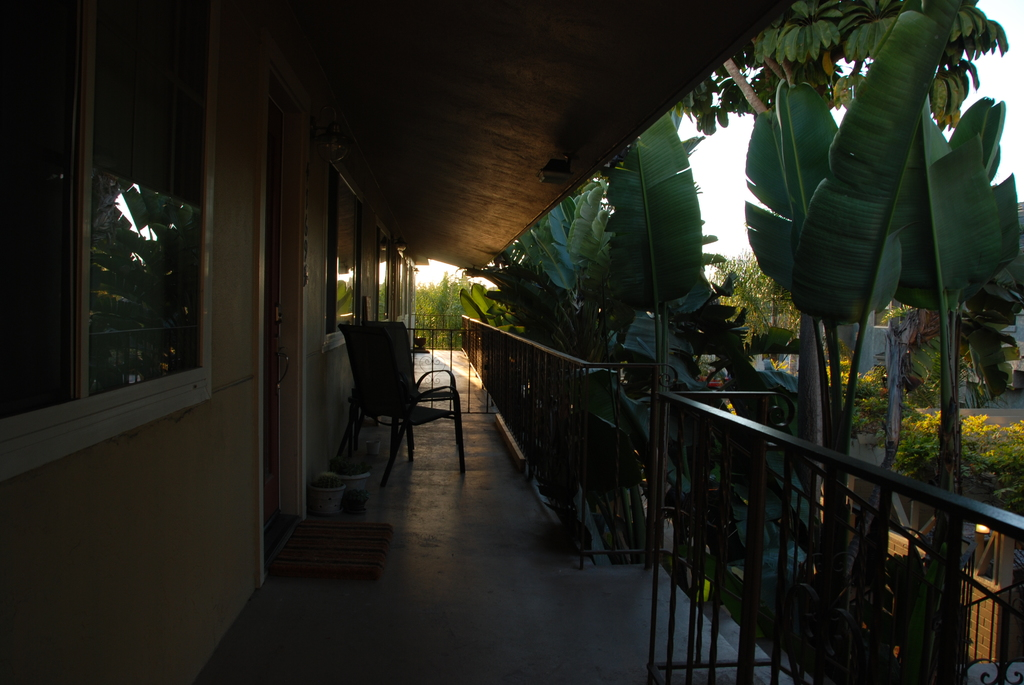Tree: (407, 0, 1020, 684)
